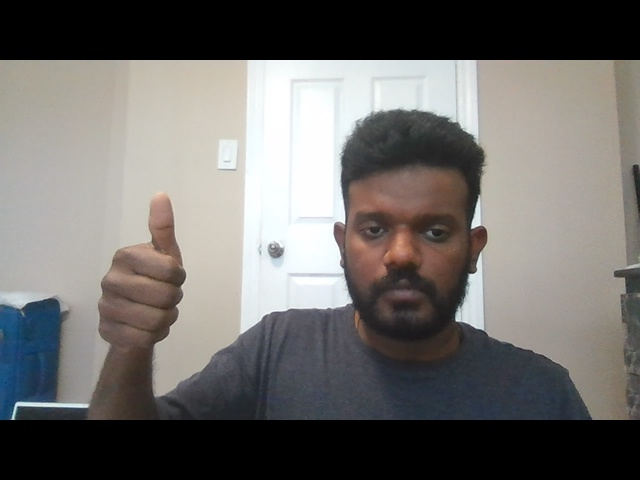yes: (95, 190, 190, 364)
